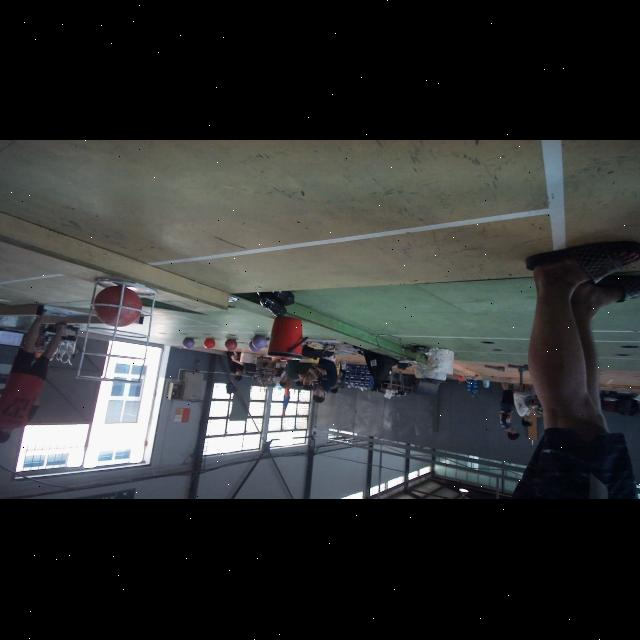R: (95, 286, 142, 328)
